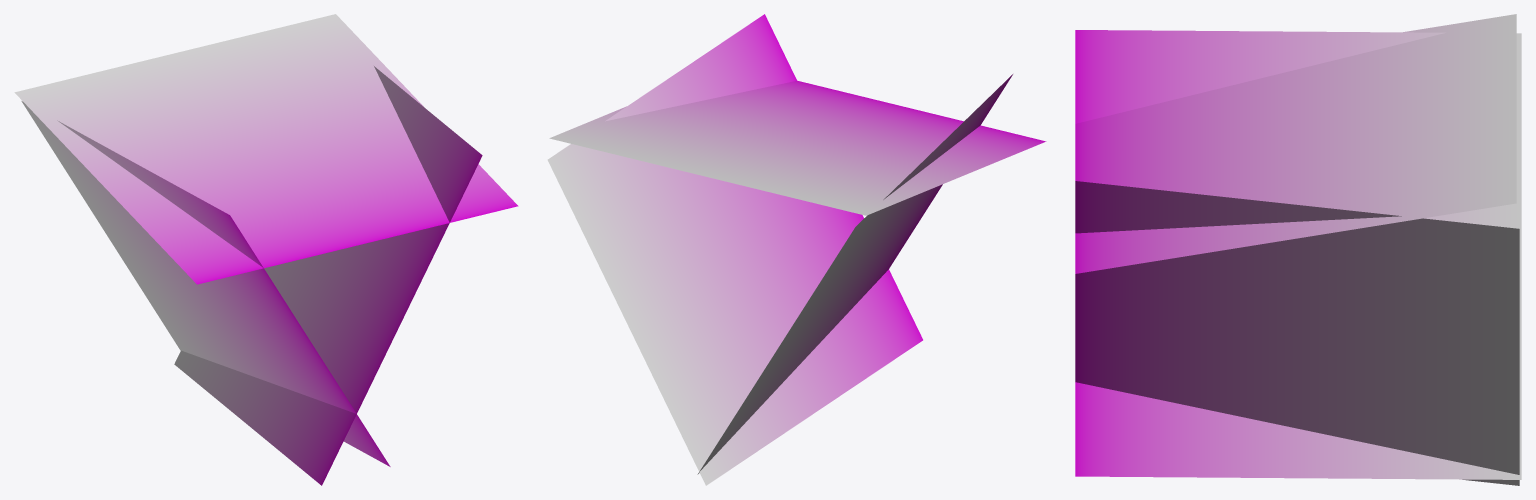
The model's file is grass_set1.fbx.
The picture shows the model from 3 angles, left to right: view 1: azimuth 30°, elevation 25°; view 2: azimuth 150°, elevation 25°; view 3: azimuth 270°, elevation 25°; orthographic projection. The views are drawn at different scales.
Visible parts, largest first — view 1: w5_grass_set1; view 2: w5_grass_set1; view 3: w5_grass_set1.
Boxes of the visible parts, x1=… form: w5_grass_set1: x1=14, y1=14, x2=518, y2=485; w5_grass_set1: x1=547, y1=14, x2=1046, y2=485; w5_grass_set1: x1=1075, y1=14, x2=1521, y2=485.
Size of the model in its own units: 0.1201 by 0.1195 by 0.1124.
